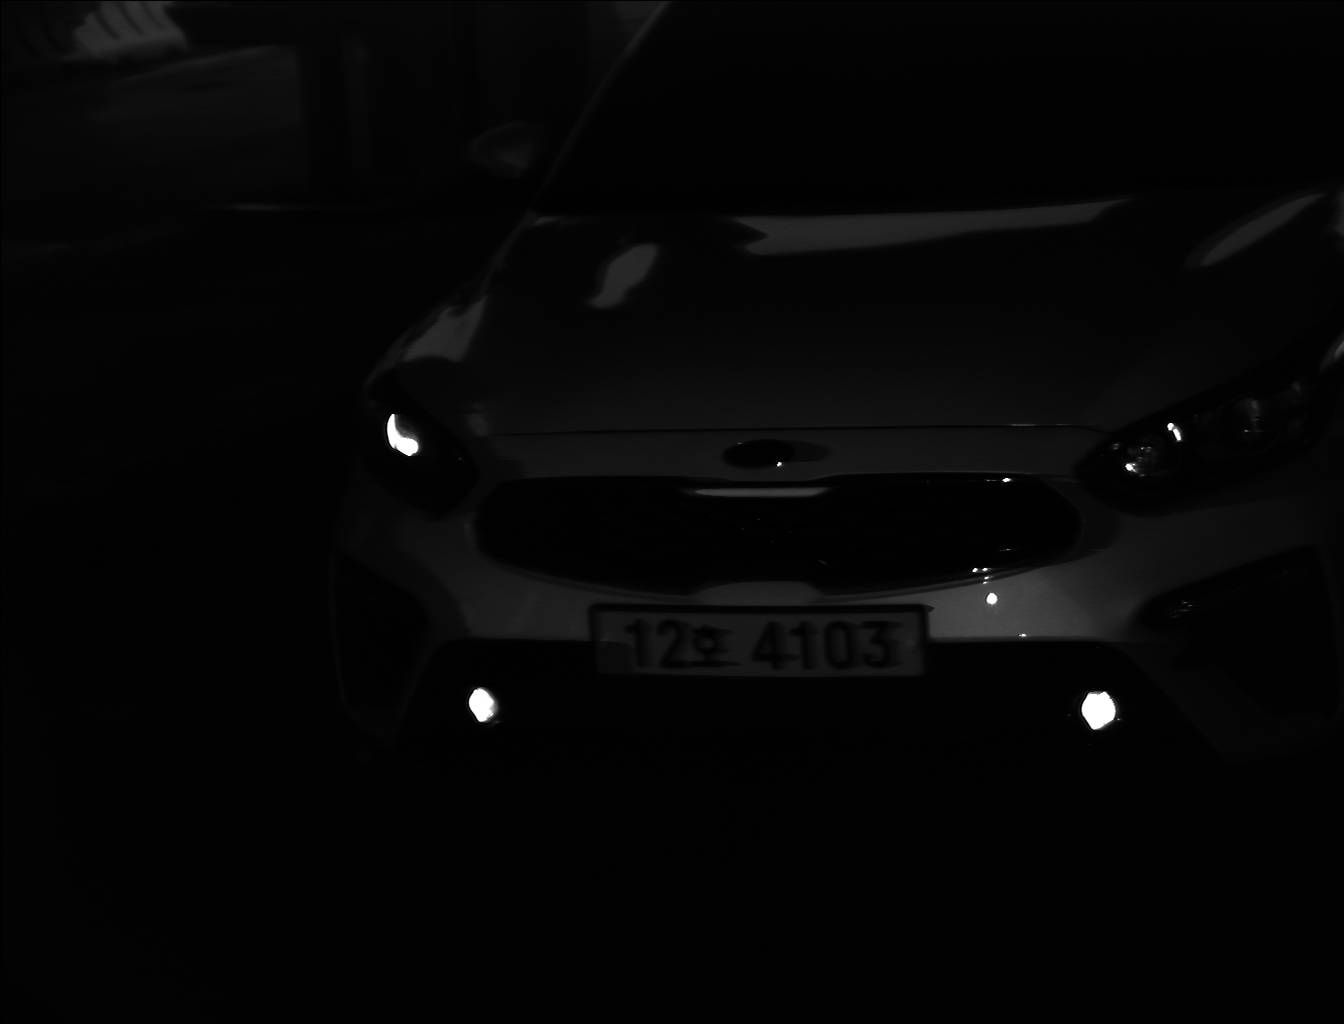car: (342, 1, 1341, 794)
plate: (583, 602, 934, 681)
